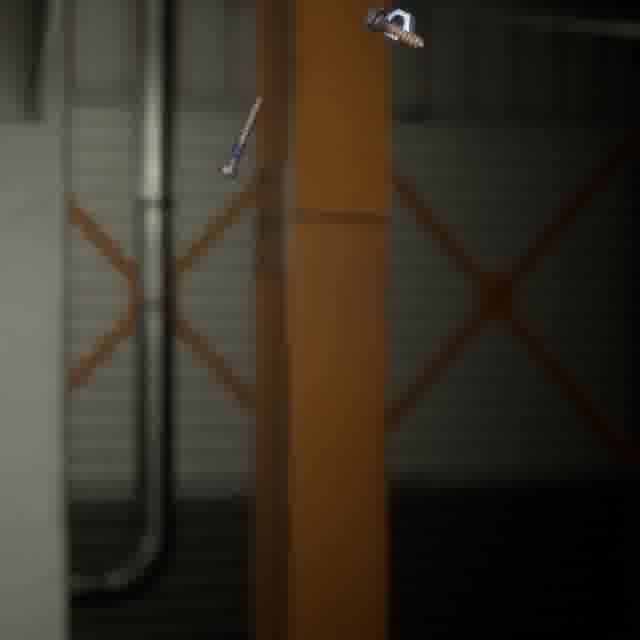bolt: (213, 89, 267, 183), (359, 2, 428, 54)
nut: (378, 4, 419, 48)
